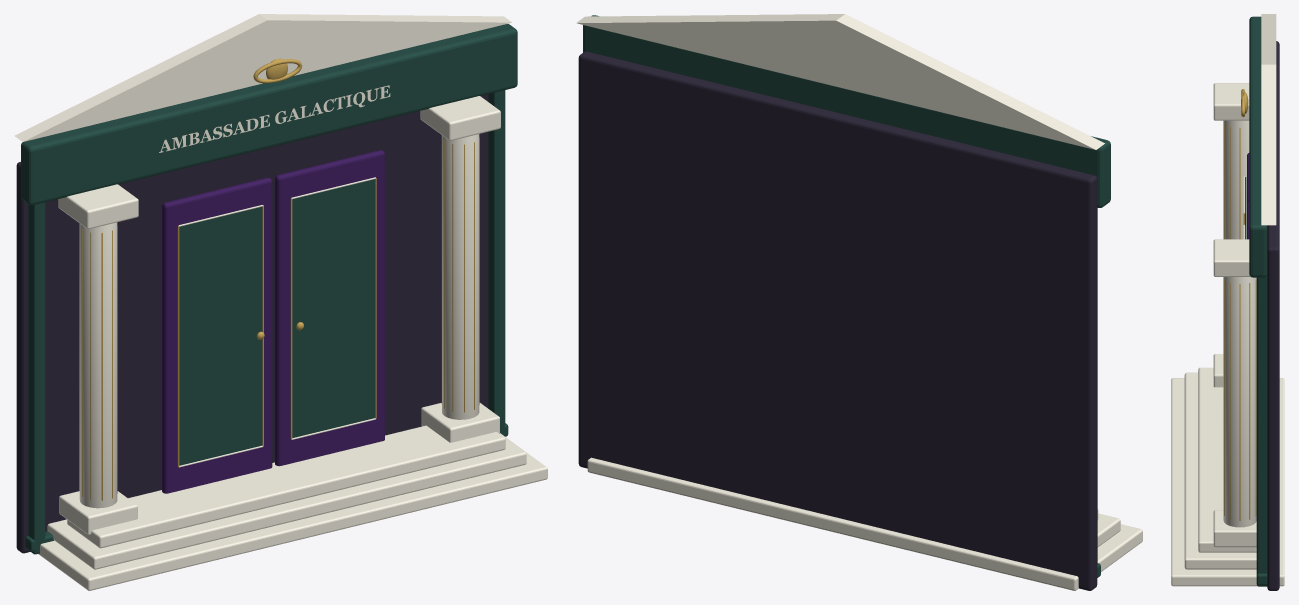
File: embassy_front.glb
3 views of the same model, side by side, from view 1: azimuth 30°, elevation 25°; view 2: azimuth 150°, elevation 25°; view 3: azimuth 270°, elevation 25° (orthographic). The views are drawn at different scales.
Visible parts, largest first — view 1: Shadow_back, Sign_face, Recessed_panel, Recessed_panel.001, Pediment, Step.002, Blue_door, Blue_door.001, Step, Column, Column.001, Step.001 (+9 smaller); view 2: Shadow_back, Pediment, Sign_face, Step; view 3: Column.001, Shadow_back, Step, Step.002, Step.001, Sign_face, Carved_frame_stile.001, Pediment, Column, Capital.001, Capital, Column_base.001 (+7 smaller).
Part boxes in pixels (x1,y1,x2,y2): Shadow_back: (16,94,488,553); Sign_face: (21,24,517,205); Recessed_panel: (179,206,262,465); Recessed_panel.001: (290,179,374,437); Pediment: (14,14,511,141); Step.002: (67,425,505,548); Blue_door: (162,177,272,493); Blue_door.001: (275,150,384,466); Step: (38,433,547,590); Column: (79,222,117,508); Column.001: (442,134,479,419); Step.001: (47,434,526,569); Shadow_back: (578,51,1097,590); Pediment: (576,14,1104,149); Sign_face: (583,15,1110,207); Step: (587,457,1142,590); Column.001: (1223,277,1256,527); Shadow_back: (1267,41,1279,590); Step: (1171,378,1284,586); Step.002: (1198,367,1256,552); Step.001: (1184,372,1256,569); Sign_face: (1249,16,1267,277); Carved_frame_stile.001: (1256,276,1267,586); Pediment: (1261,14,1276,225); Column: (1223,120,1249,239); Capital.001: (1213,239,1250,276); Capital: (1213,83,1249,120); Column_base.001: (1213,510,1256,547).
Size of the model in its own units: 3.3 by 3.08 by 0.75.
